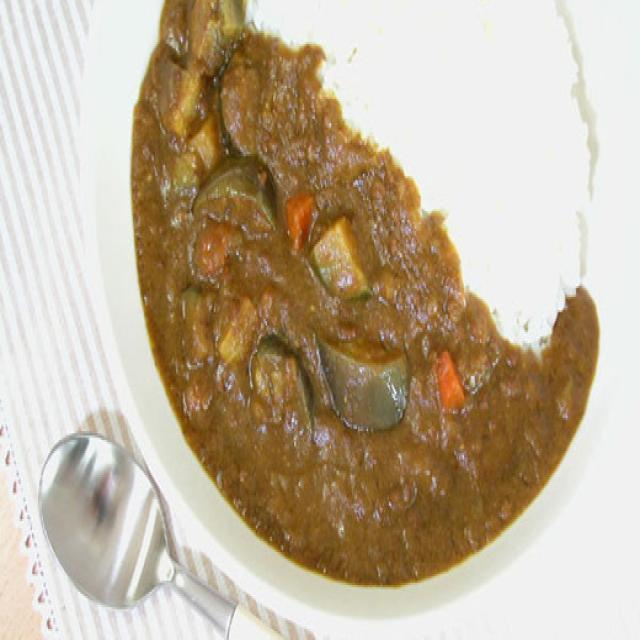Beef Curry: (125, 0, 598, 576)
